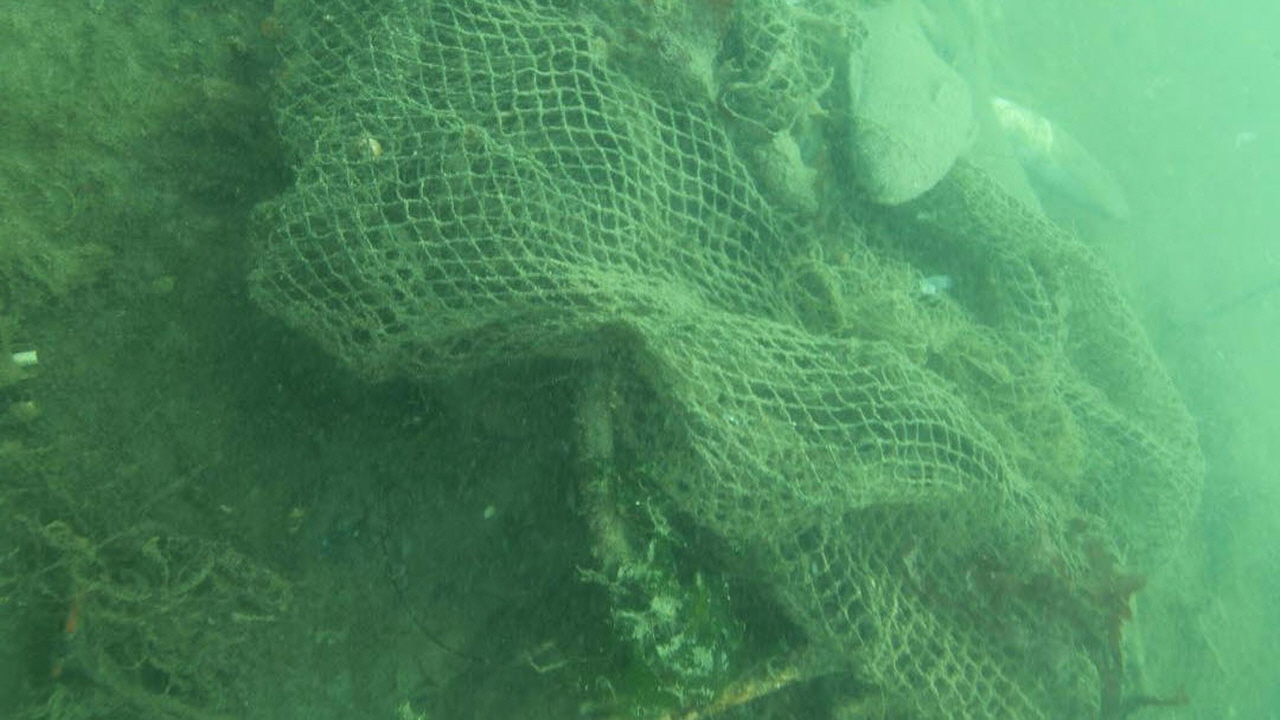fish net: (245, 2, 1204, 720)
